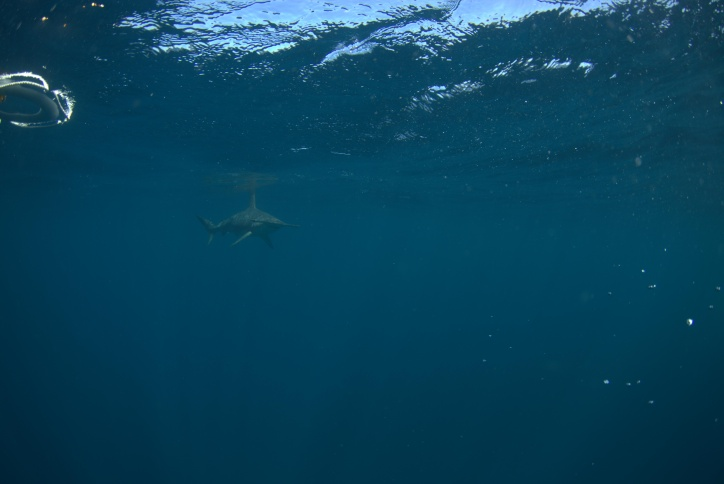Hammer: (171, 175, 322, 271)
